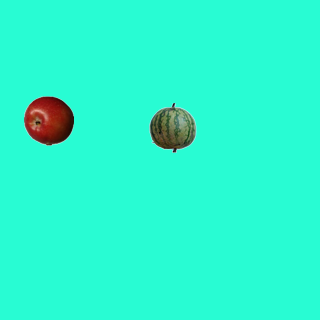Apple Braeburn: (23, 95, 73, 145)
Watermelon: (147, 102, 197, 152)
